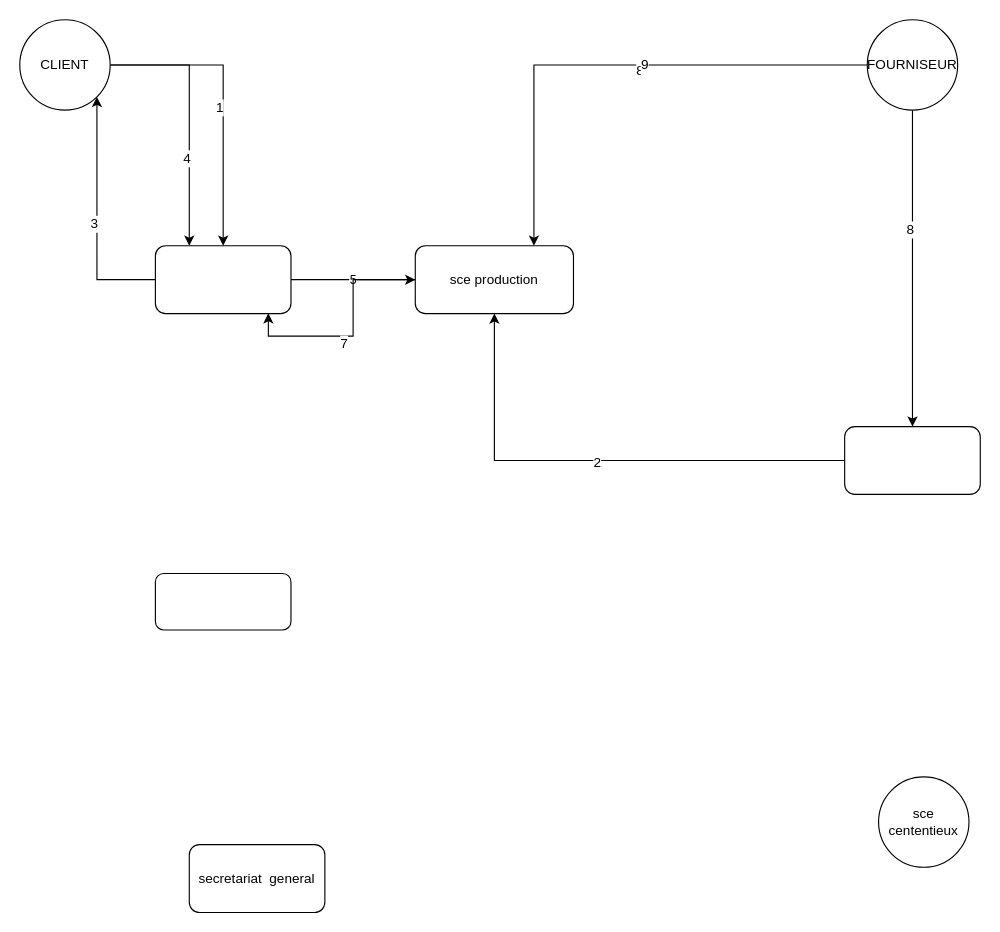
Some shapes in this 1000 by 932 pixel diagram are drawn without their labels. Each missing label, with the centre of its shape:
"la direction" goes at pixel 912 459.
"sce comptabilite" goes at pixel 222 601.
"sce des ventes" goes at pixel 222 279.
